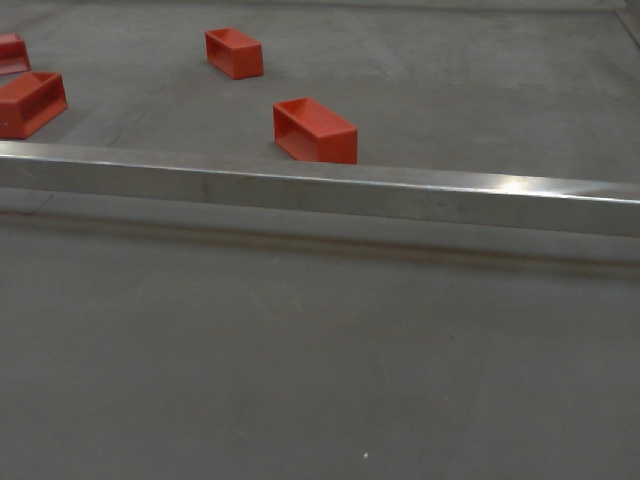RedSample: (270, 96, 358, 168), (1, 69, 69, 142), (203, 23, 265, 82), (1, 32, 31, 74)
